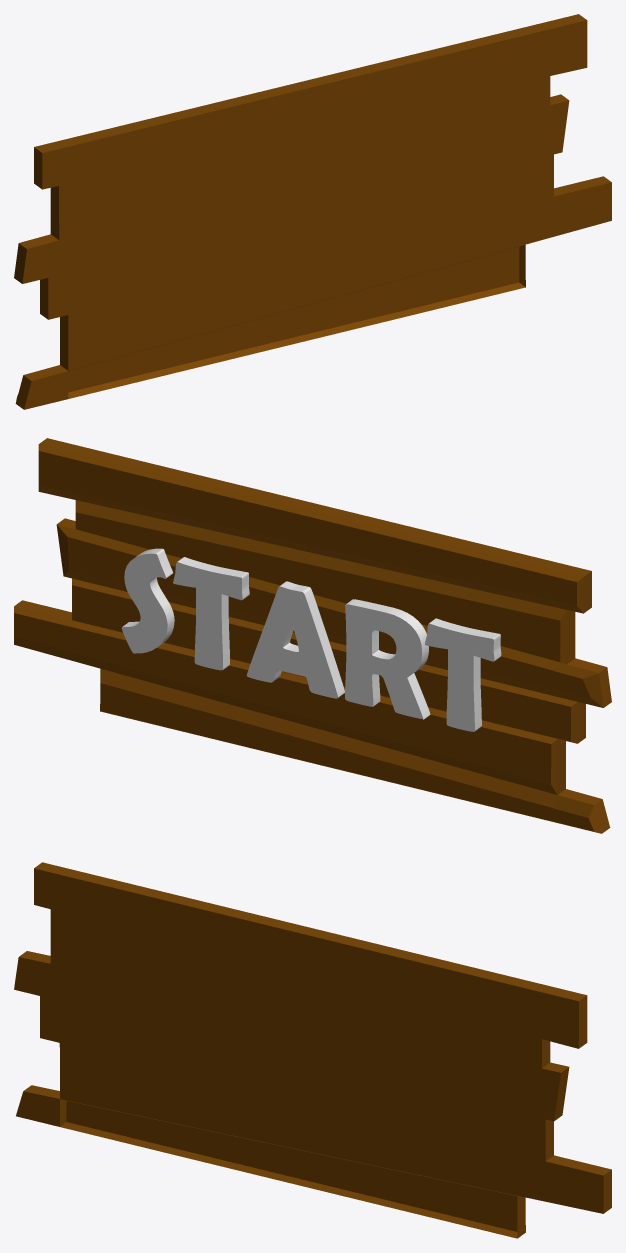
The model's file is start_button.fbx.
3 views of the same model, one above another, from view 1: azimuth 30°, elevation 25°; view 2: azimuth 150°, elevation 25°; view 3: azimuth 330°, elevation 25° (orthographic).
Visible parts, largest first — view 1: pCube5; view 2: pCube5, typeMesh2; view 3: pCube5.
Boxes of the visible parts, left/top/right/bottom form: pCube5: left=14, top=14, right=611, bottom=409; pCube5: left=14, top=438, right=611, bottom=833; typeMesh2: left=121, top=548, right=501, bottom=731; pCube5: left=14, top=862, right=611, bottom=1238.
Bounding box in the file's own units: 122 × 50 × 6.78.
